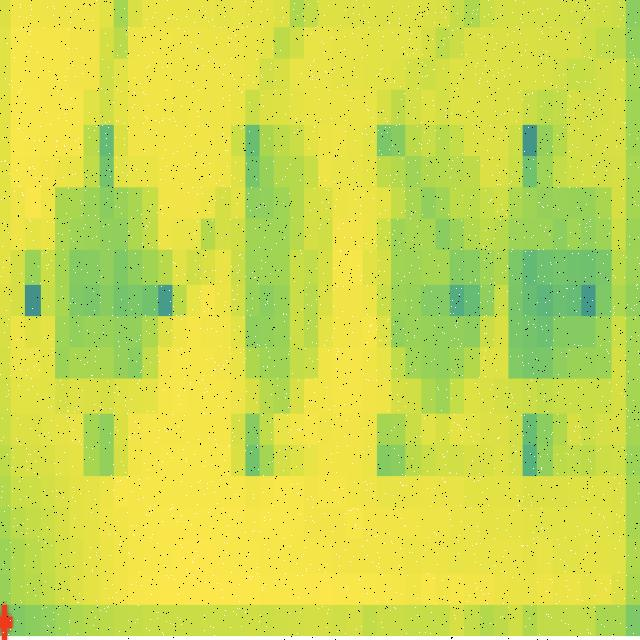Concrete: (48, 150, 170, 407)
Glass: (510, 132, 610, 419)
Metal: (211, 110, 341, 412)
Wood: (374, 84, 492, 415)
